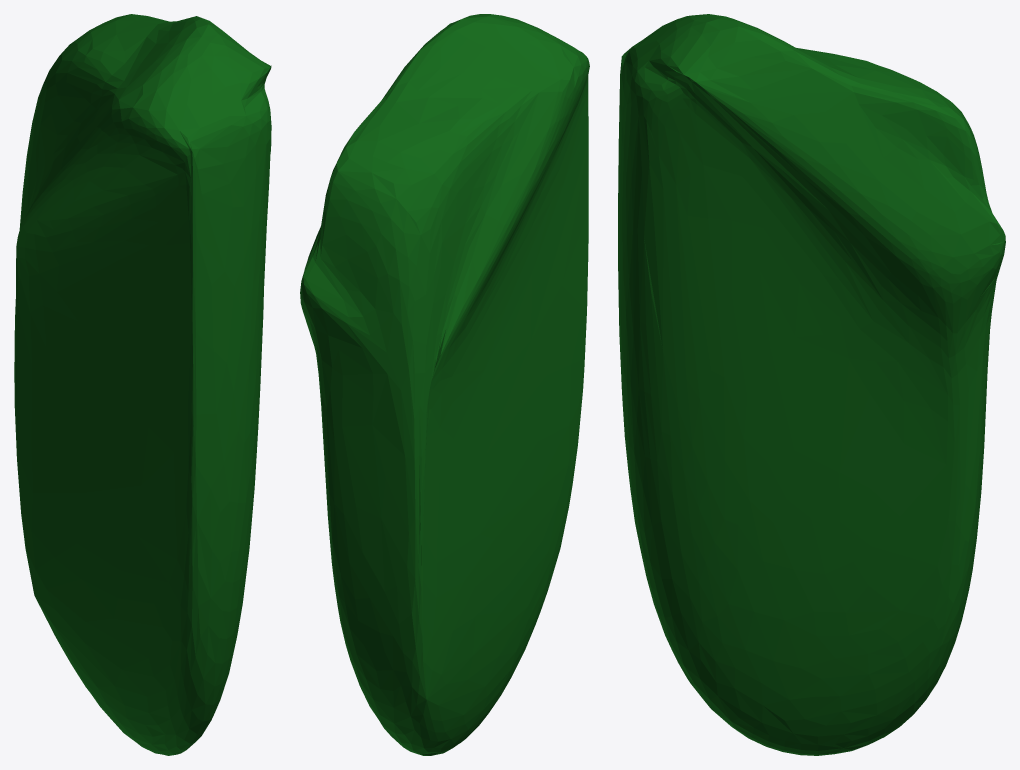
3 views of the same model, side by side, from view 1: azimuth 30°, elevation 25°; view 2: azimuth 150°, elevation 25°; view 3: azimuth 270°, elevation 25° (orthographic). The views are drawn at different scales.
Parts seen in each view (by area): view 1: 972_Cube.3928; view 2: 972_Cube.3928; view 3: 972_Cube.3928.
Part boxes in pixels (left/top/right/bottom): 972_Cube.3928: left=14, top=14, right=271, bottom=755; 972_Cube.3928: left=300, top=14, right=589, bottom=755; 972_Cube.3928: left=618, top=14, right=1005, bottom=755.
Bounding box in the file's own units: 2.89 × 12.17 × 5.79.
